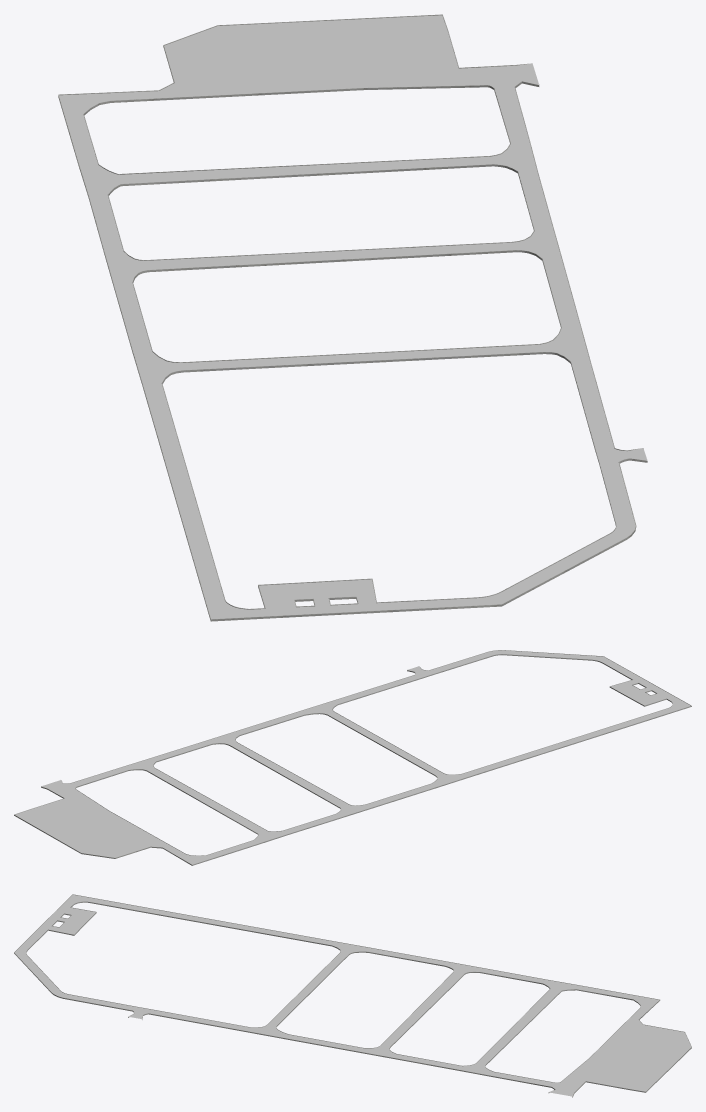
File: road_p06_01.fbx
3 renders of one model, top to bottom at view 1: azimuth 30°, elevation 25°; view 2: azimuth 150°, elevation 25°; view 3: azimuth 270°, elevation 25°, orthographic. The views are drawn at different scales.
Visible parts, largest first — view 1: road_p06_01; view 2: road_p06_01; view 3: road_p06_01.
Part boxes in pixels (x1=…): road_p06_01: x1=58, y1=14, x2=647, y2=621; road_p06_01: x1=14, y1=650, x2=691, y2=865; road_p06_01: x1=14, y1=894, x2=691, y2=1097.
Size of the model in its own units: 29870 by 100 by 42348.
